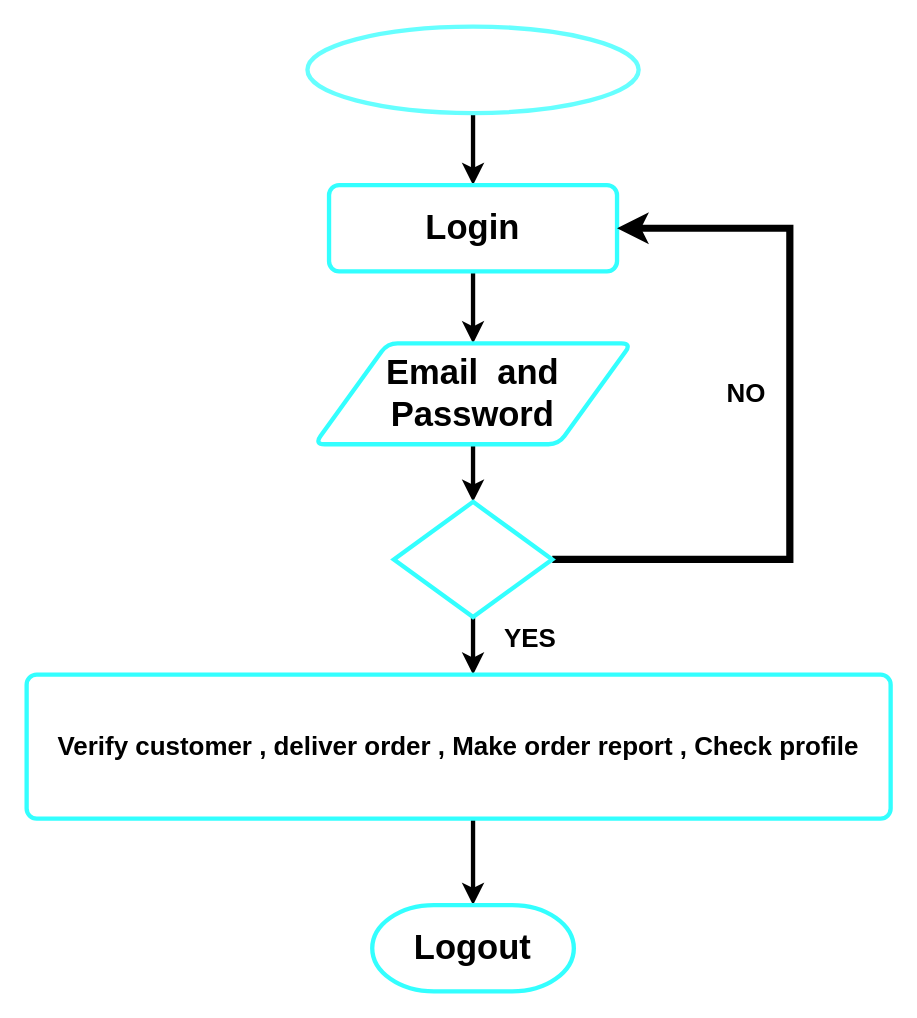
Some shapes in this 917 by 1018 pixel diagram are drawn without their labels. Each missing label, with the box of its shape:
Delivery person: (305, 24, 640, 114)
valid: (391, 499, 554, 618)
